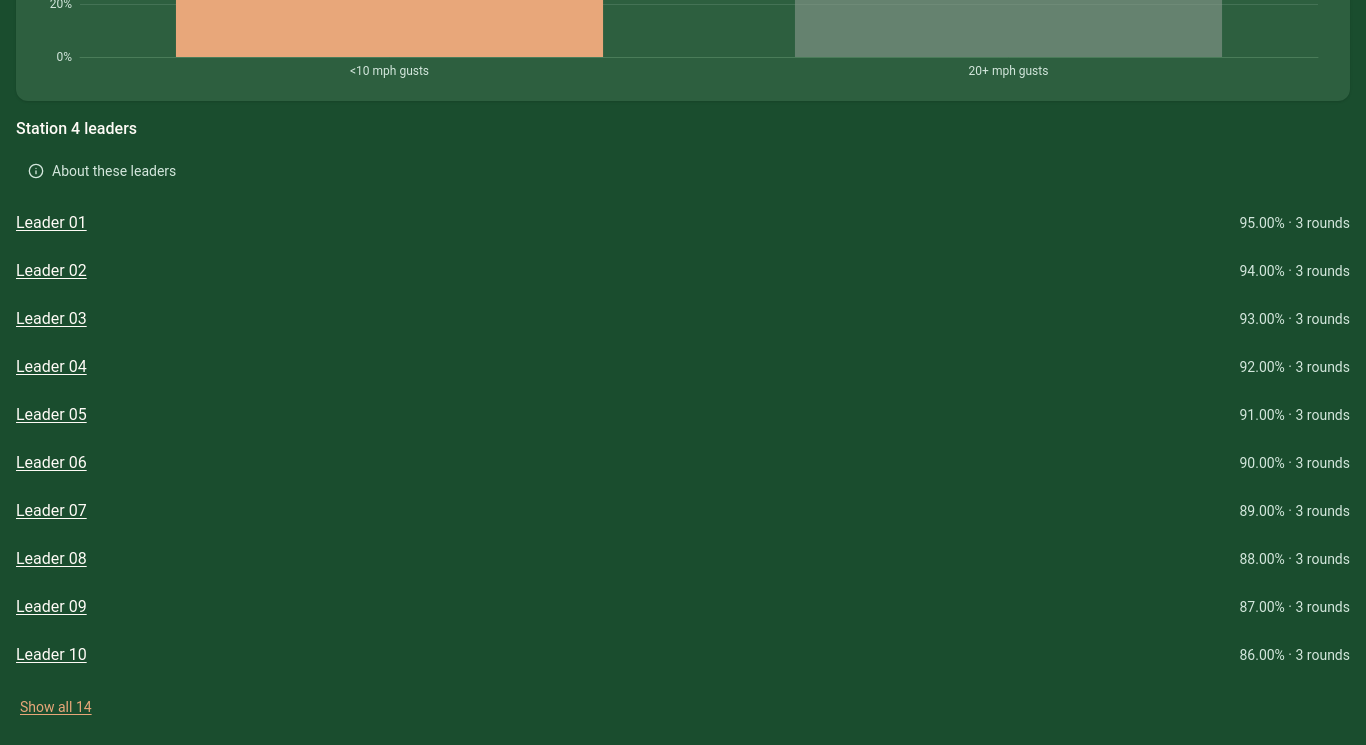
Test: StationsPage › lists ten station leaders, then Show all N, and Show fewer folds them back
(page scrolled)
Step 1. Click the button "Show all 14" → x=56, y=707, box [16, 685, 96, 729]
(page scrolled)
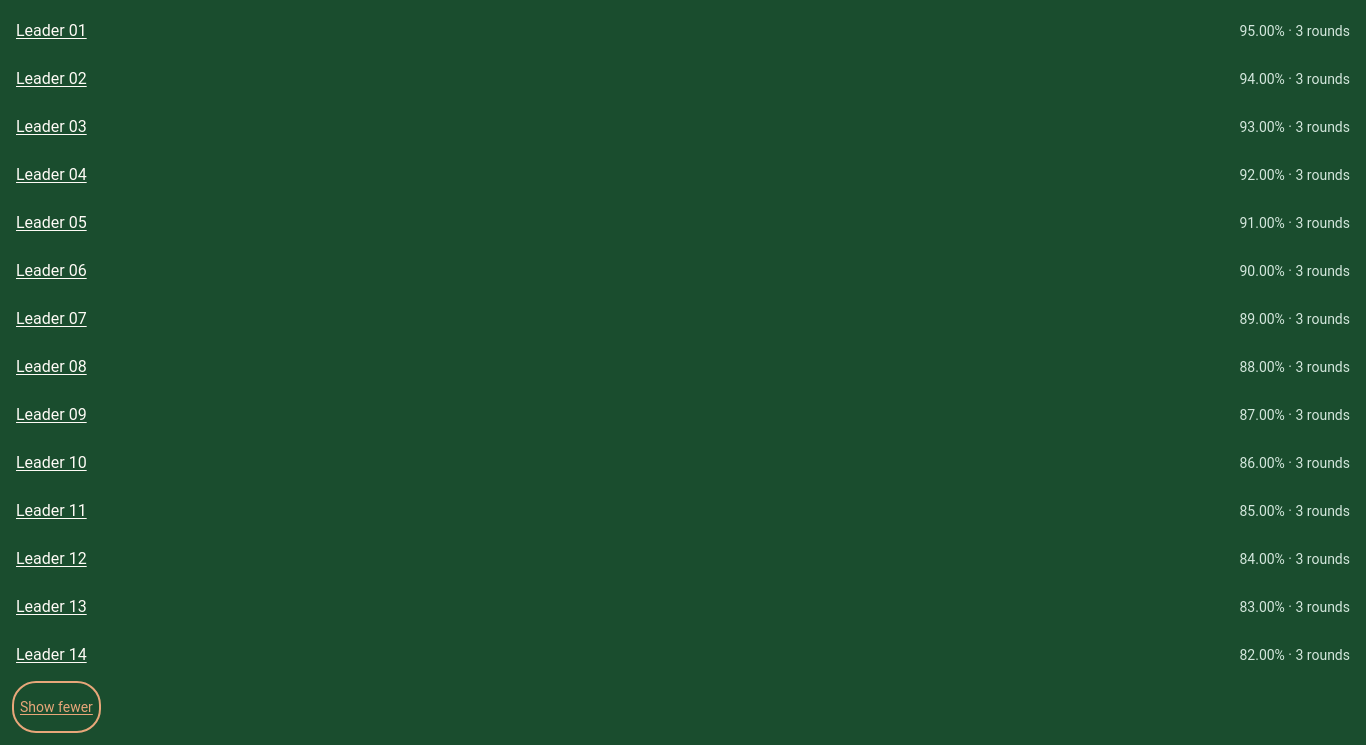
Result: the number of list items is 14
Step 2. Click the button "Show fewer" → x=56, y=707, box [16, 685, 97, 729]
(page scrolled)
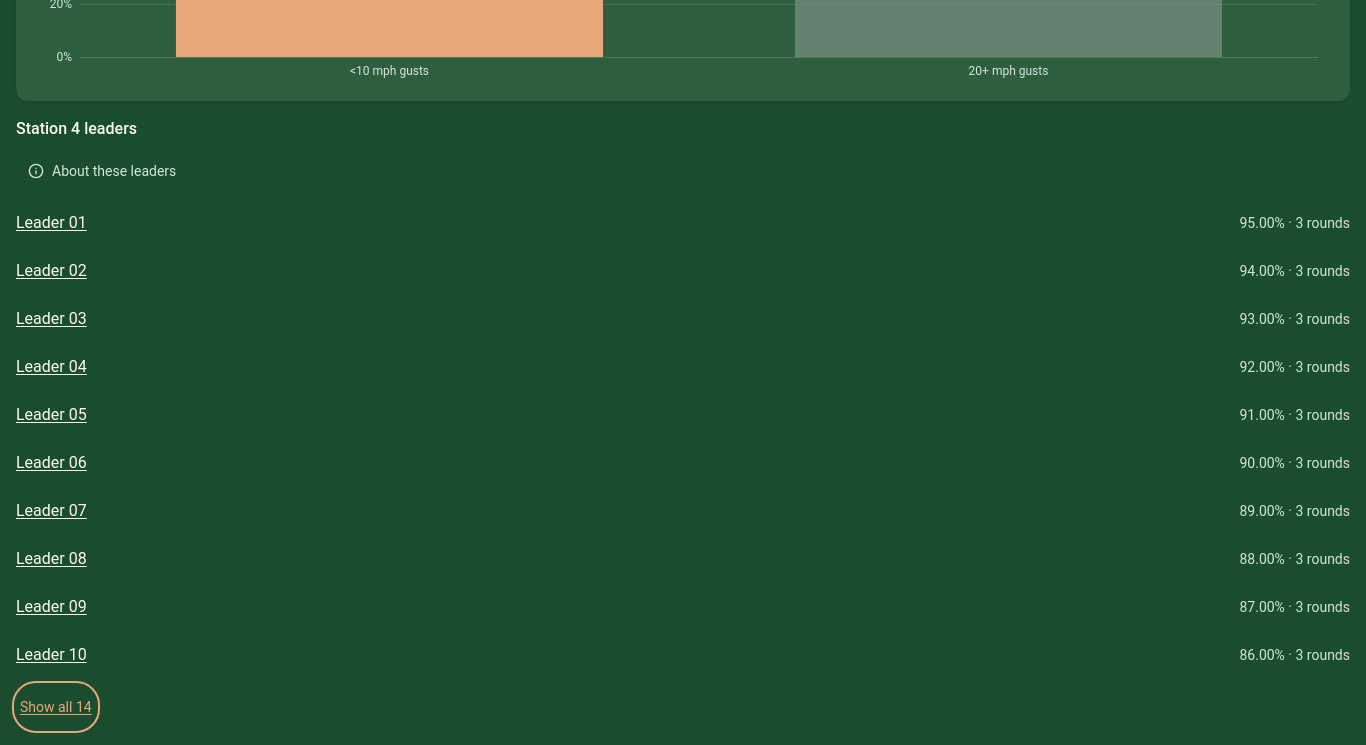
Result: the number of list items is 10
